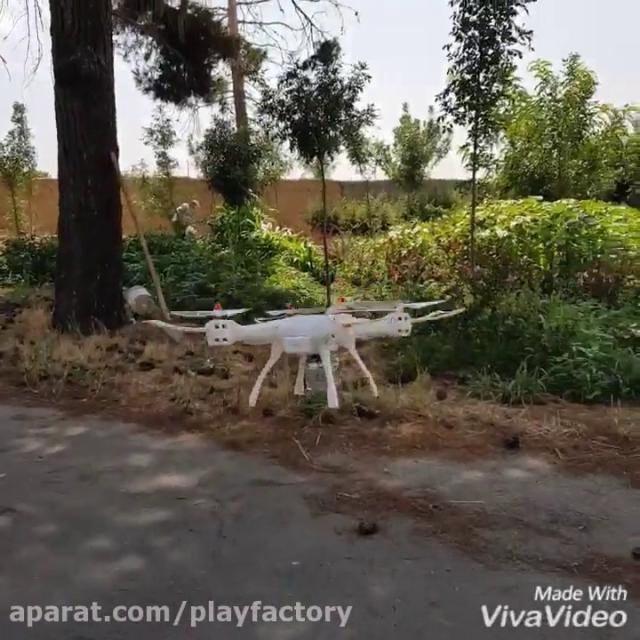drone: (141, 293, 467, 412)
